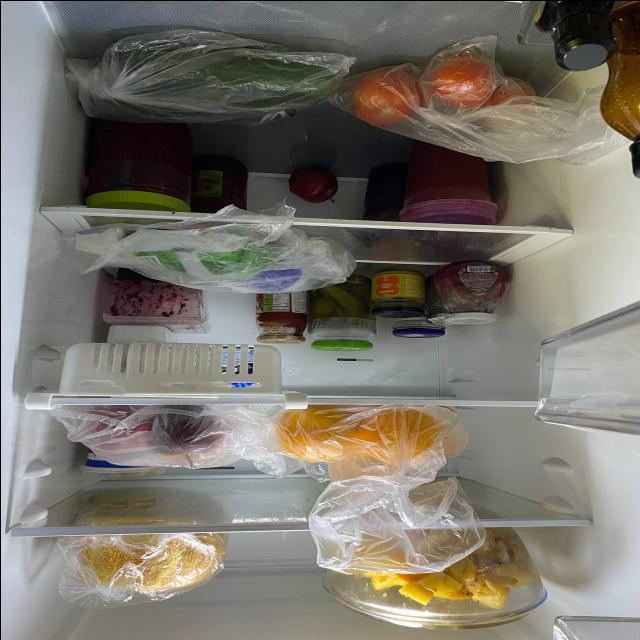Apple: (154, 409, 226, 470), (80, 411, 154, 458), (286, 166, 344, 199)
Cucumber: (85, 48, 344, 97), (75, 83, 306, 126)
Orange: (277, 404, 357, 464), (360, 410, 442, 466)
Tomato: (422, 51, 502, 107), (349, 64, 422, 124), (477, 77, 539, 109)
